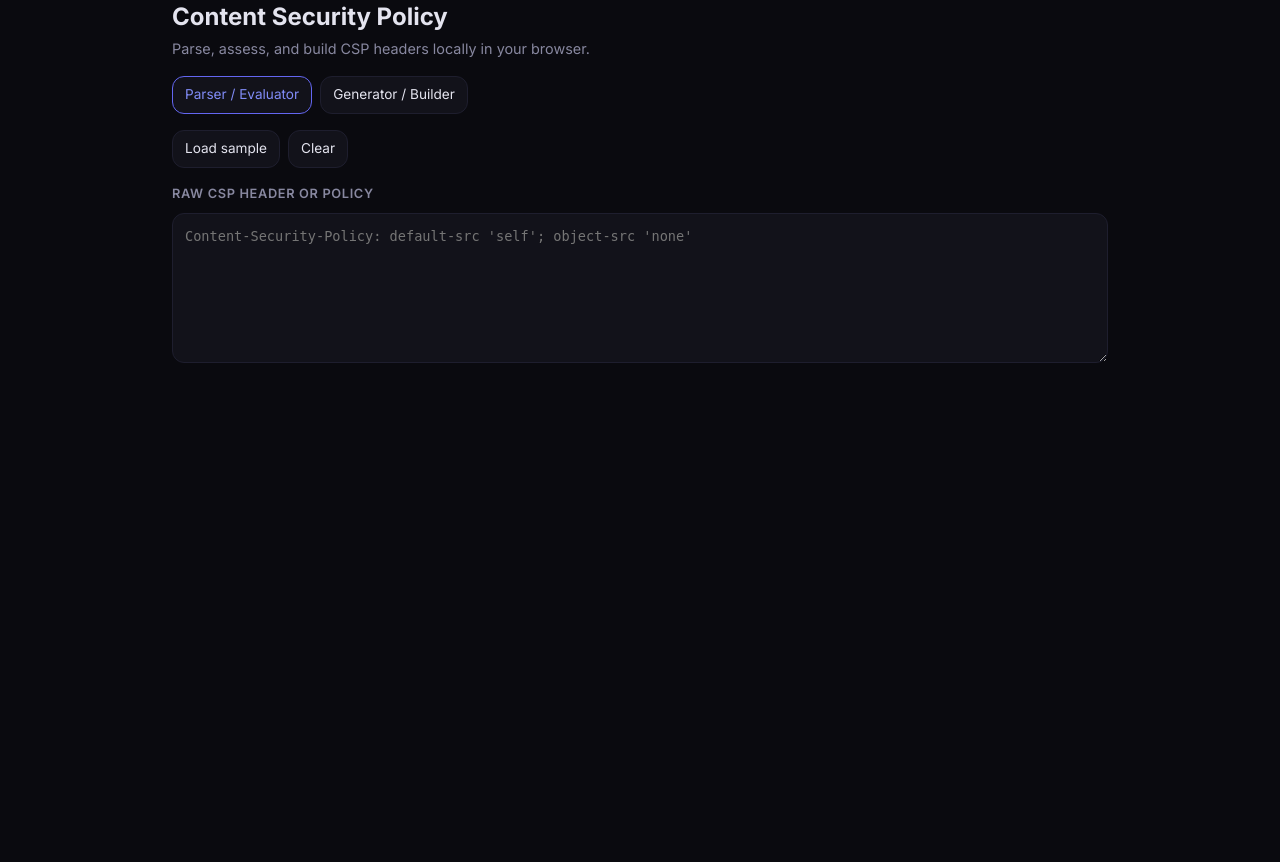
Scenario: CspTool › copies the generated header and announces feedback
The image size is (1280, 862).
Click the tab "Generator / Builder": point(394, 95) top-left (320, 76), bottom-right (468, 114)
(page scrolled)
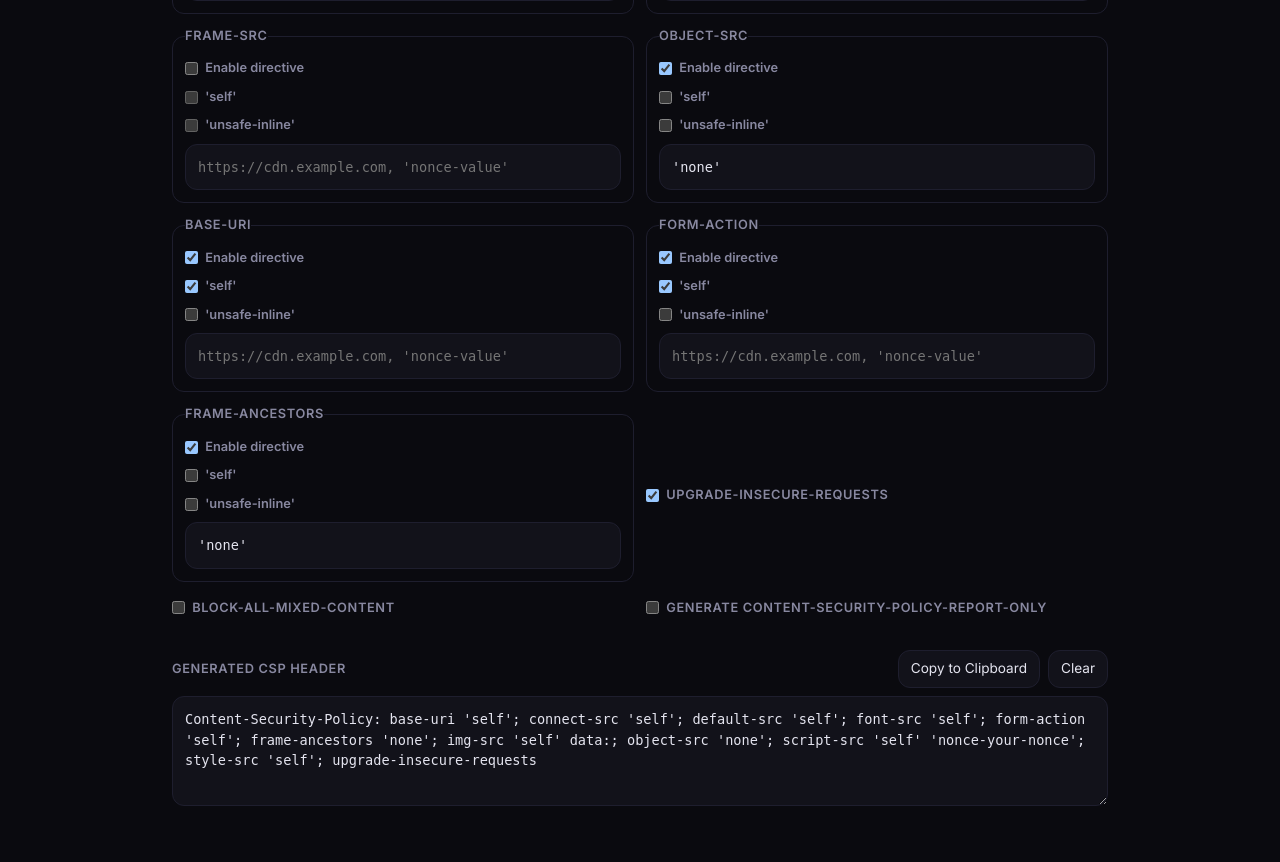
Click the button with aria-label "Copy generated CSP header": point(969, 669) top-left (898, 650), bottom-right (1040, 688)
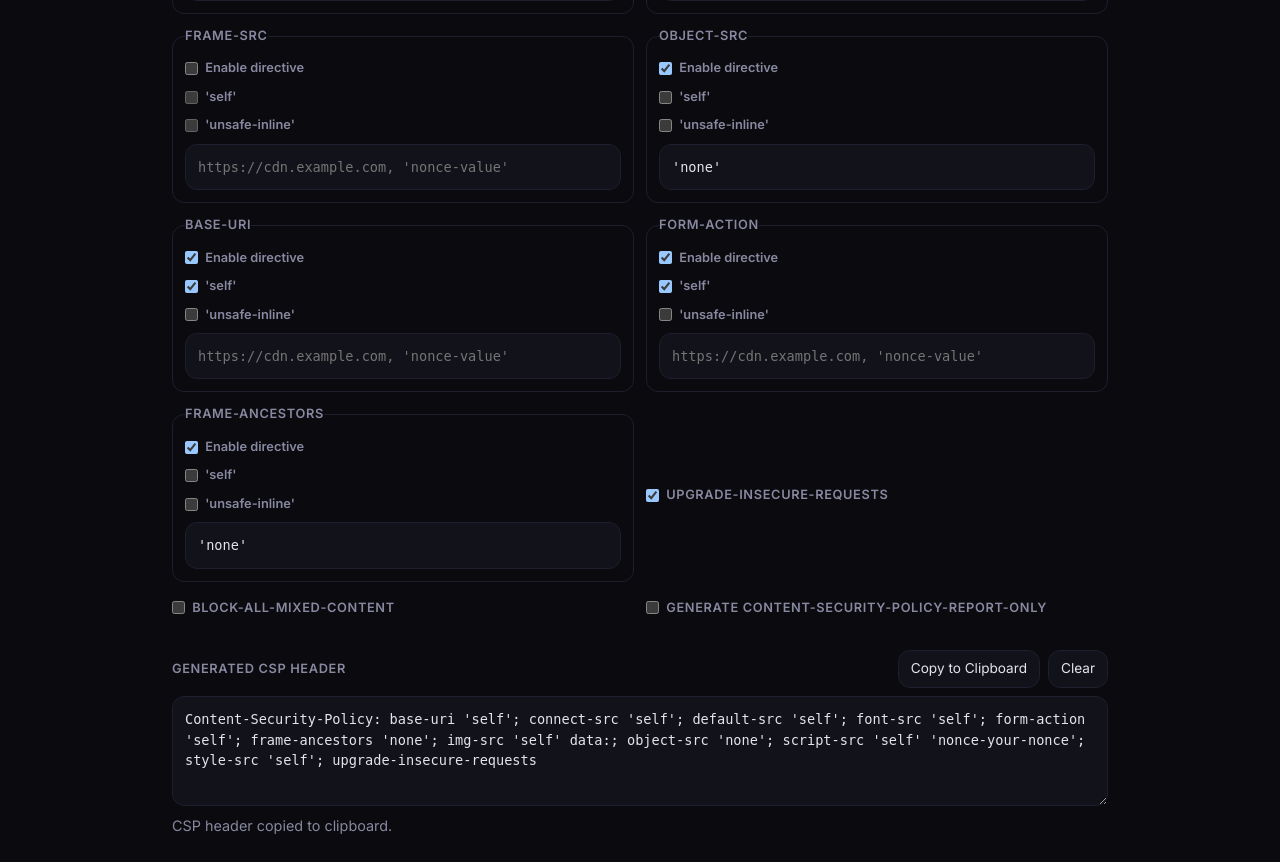
expect the message reads "CSP header copied to clipboard.": met, box top-left (172, 817), bottom-right (392, 834)
